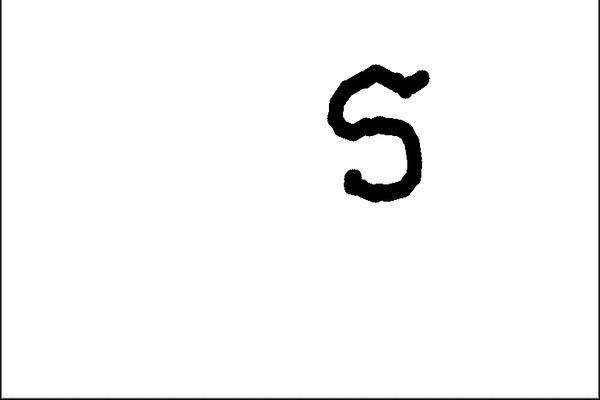S: (316, 53, 440, 215)
